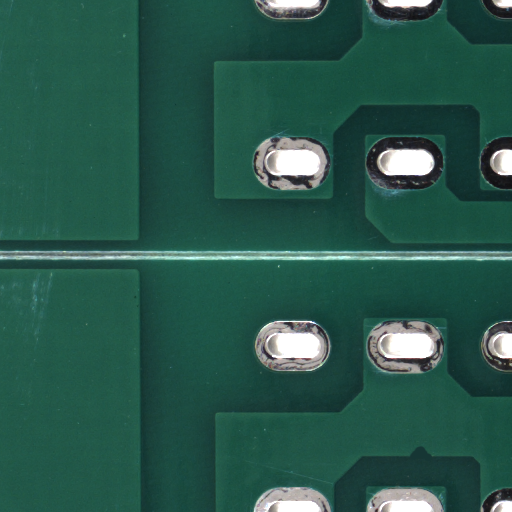Mouse_bite: (420, 452, 441, 465)
